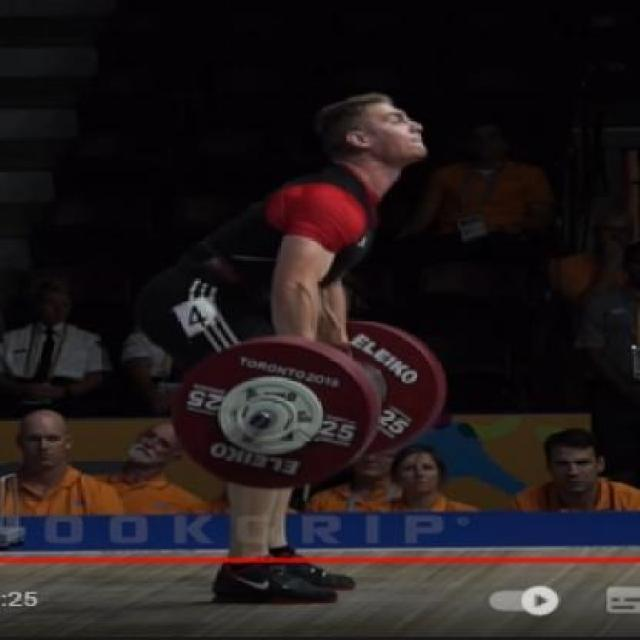barbell: (172, 334, 380, 497)
